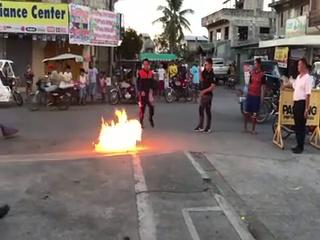Fire: (67, 64, 134, 129), (86, 77, 134, 119), (102, 99, 148, 132), (113, 89, 155, 124), (91, 97, 129, 105)
